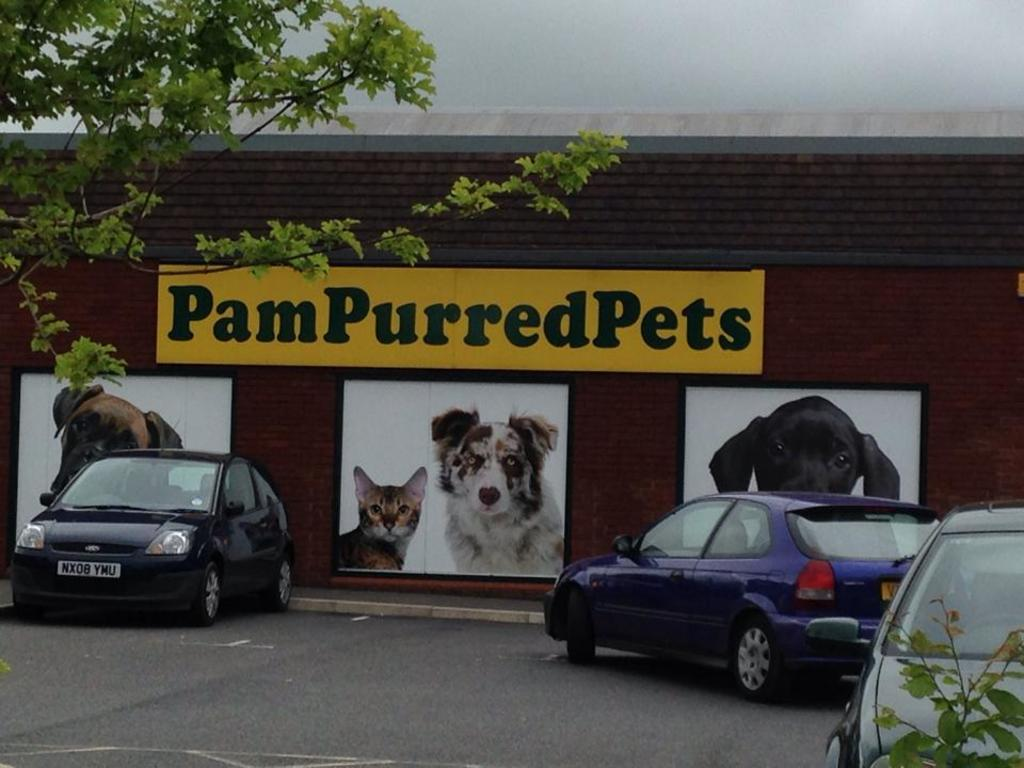Car: (539, 487, 940, 699), (11, 420, 299, 629), (804, 501, 1022, 766)
